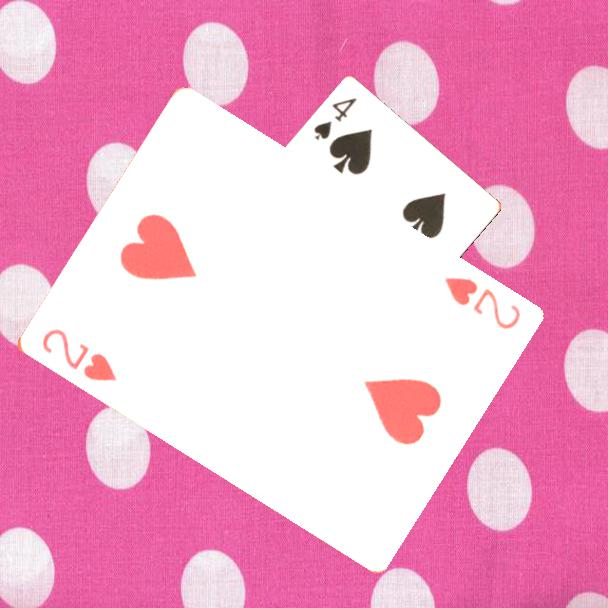h02: (37, 325, 120, 385), (440, 273, 523, 333)
s04: (310, 94, 360, 143)
